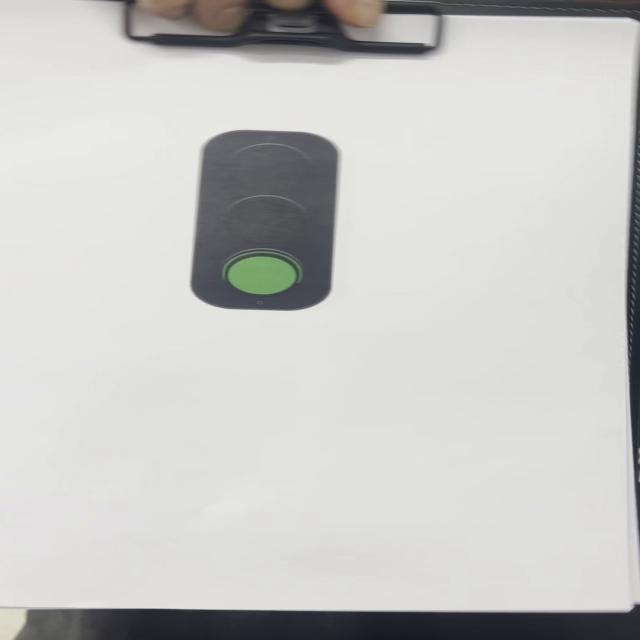green: (191, 128, 342, 310)
